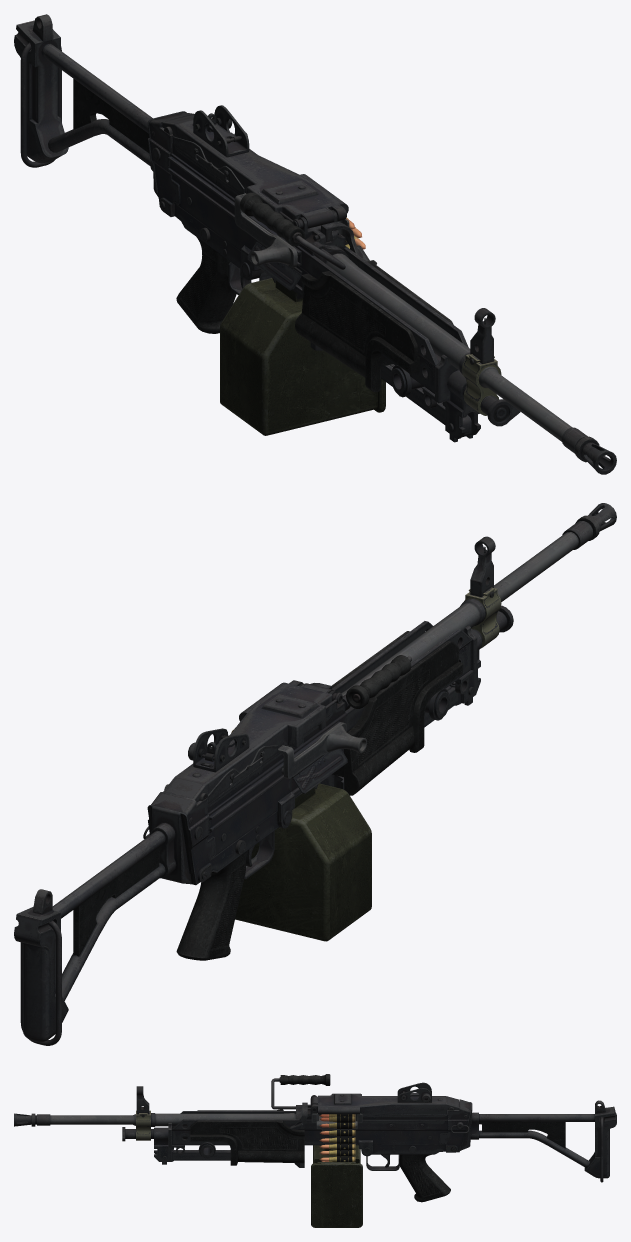
Rendered from LMG.glb.
The picture shows the model from 3 angles, top to bottom: view 1: azimuth 30°, elevation 25°; view 2: azimuth 150°, elevation 25°; view 3: azimuth 270°, elevation 25°; orthographic projection. The views are drawn at different scales.
Visible parts, largest first — view 1: base, mag, cover, handle, loader, loaderlid, ejector; view 2: base, mag, cover, loader, handle, ejector, loaderlid; view 3: base, mag, cover, handle.
Part boxes in pixels (left/top/right/bottom): base: left=14, top=14, right=616, bottom=474; mag: left=220, top=278, right=385, bottom=435; cover: left=162, top=105, right=348, bottom=228; handle: left=240, top=192, right=345, bottom=269; loader: left=234, top=193, right=297, bottom=267; loaderlid: left=172, top=136, right=244, bottom=194; ejector: left=247, top=242, right=301, bottom=290; base: left=14, top=503, right=616, bottom=1045; mag: left=235, top=783, right=371, bottom=941; cover: left=163, top=680, right=341, bottom=802; loader: left=278, top=722, right=366, bottom=778; handle: left=346, top=655, right=411, bottom=708; ejector: left=293, top=749, right=347, bottom=793; loaderlid: left=208, top=745, right=278, bottom=803; base: left=14, top=1086, right=616, bottom=1202; mag: left=311, top=1145, right=362, bottom=1227; cover: left=310, top=1082, right=459, bottom=1117; handle: left=271, top=1074, right=330, bottom=1109.
Size of the model in its own units: 0.1303 by 0.2338 by 1.01.
Materials: 1 (1 with a texture image).
